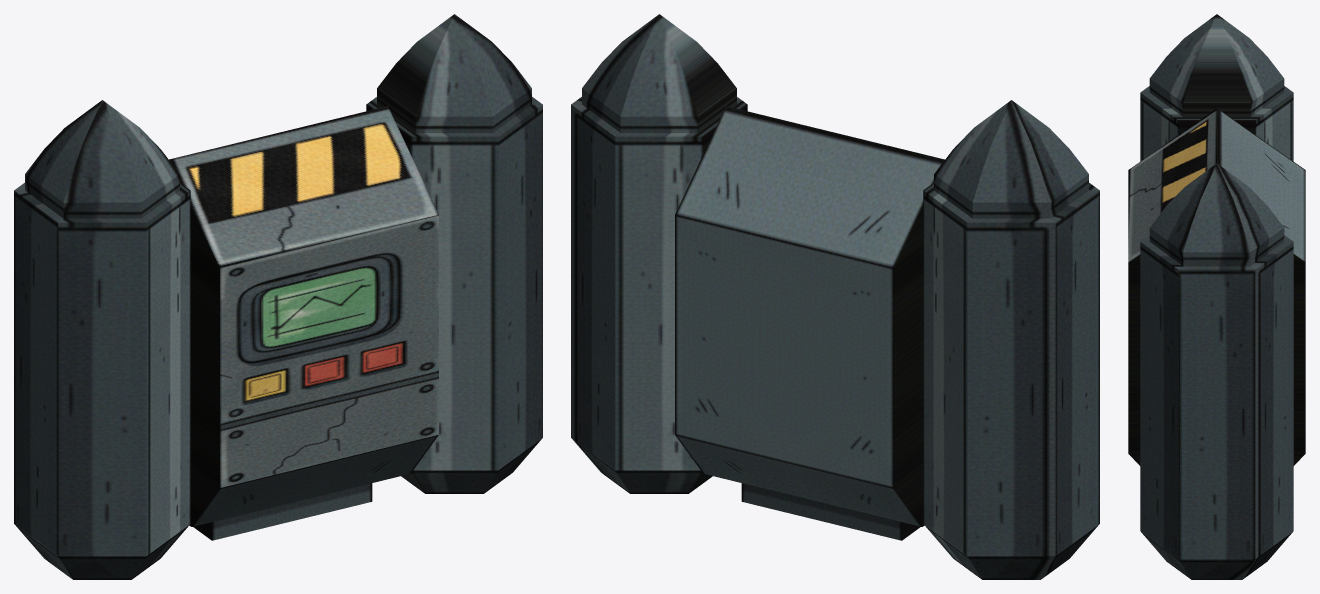
Rendered from Jetpack.fbx.
3 views of the same model, side by side, from view 1: azimuth 30°, elevation 25°; view 2: azimuth 150°, elevation 25°; view 3: azimuth 270°, elevation 25° (orthographic). The views are drawn at different scales.
Parts seen in each view (by area): view 1: Jetpack; view 2: Jetpack; view 3: Jetpack.
Boxes of the visible parts, x1,y1,x2,y2 form: Jetpack: (14,14,542,579); Jetpack: (571,14,1099,579); Jetpack: (1128,14,1305,579).
Bounding box in the file's own units: 162 × 58.88 × 146.
Materials: 1 (1 with a texture image).
